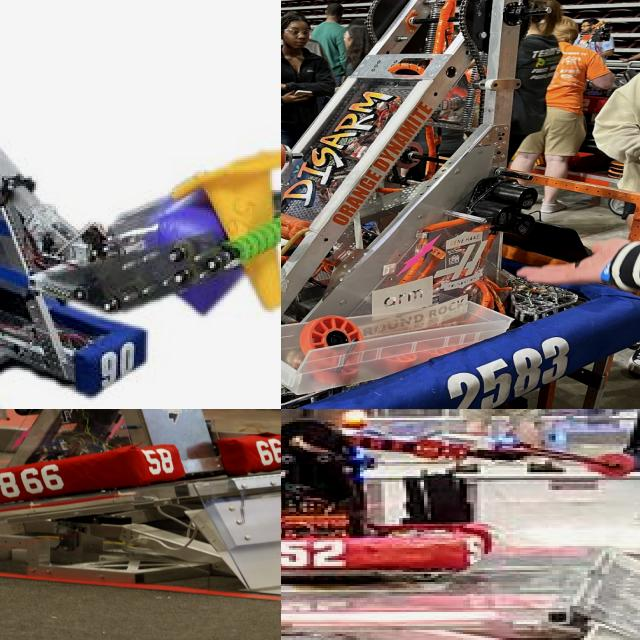FRC-Robots: (281, 0, 638, 409), (0, 0, 281, 409), (281, 409, 640, 577), (0, 409, 281, 520)
